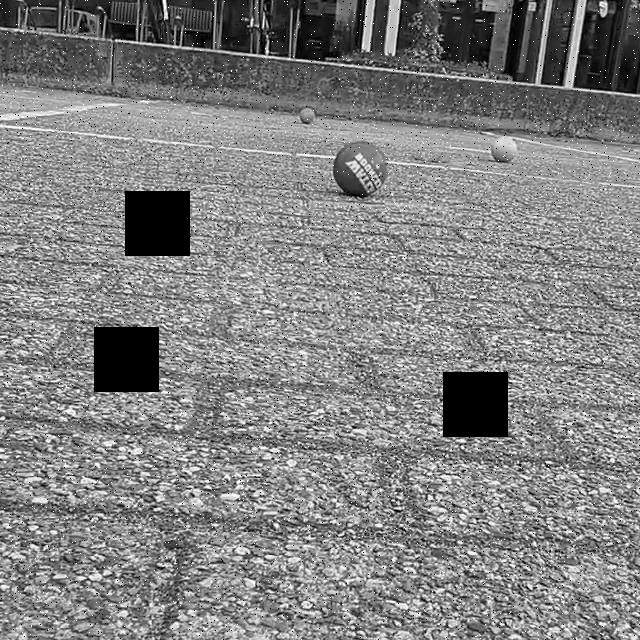ball: (488, 130, 520, 165), (298, 102, 316, 127)
